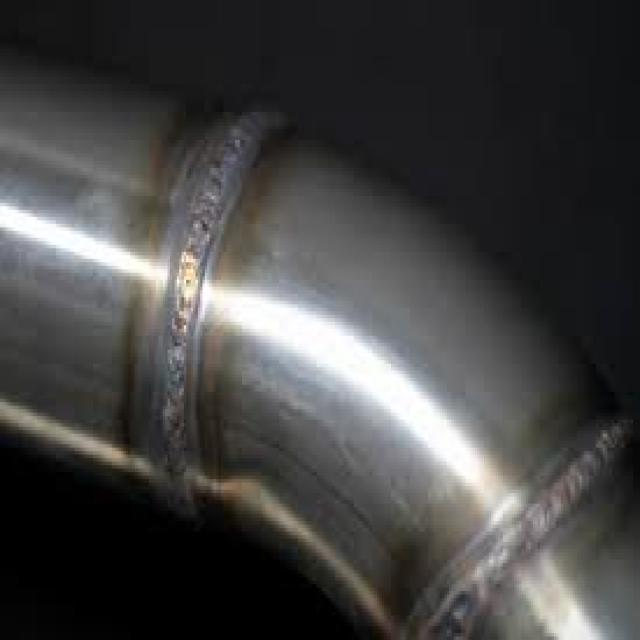Dry Waste: (129, 56, 321, 547), (356, 328, 640, 634)
